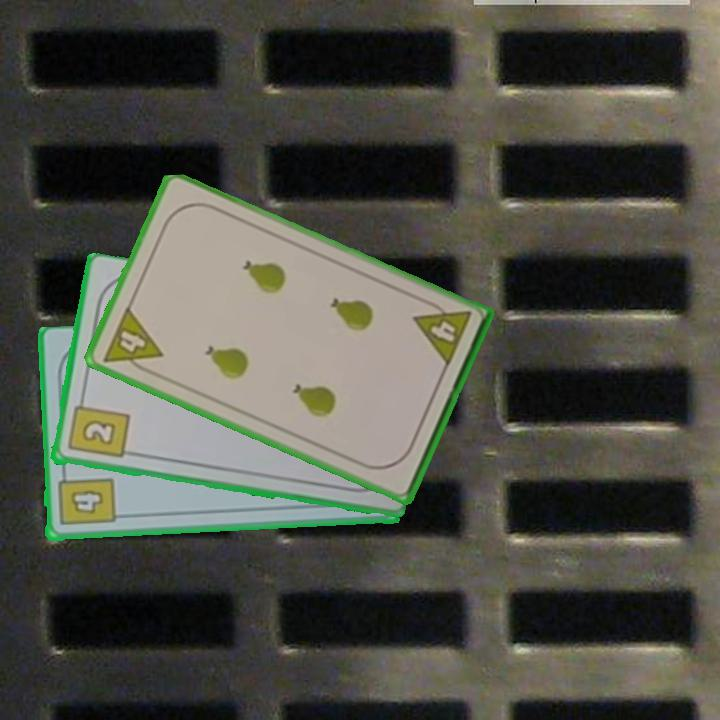2b: (64, 393, 131, 462)
4b: (54, 466, 117, 529)
4p: (99, 303, 166, 379), (410, 295, 474, 370)
